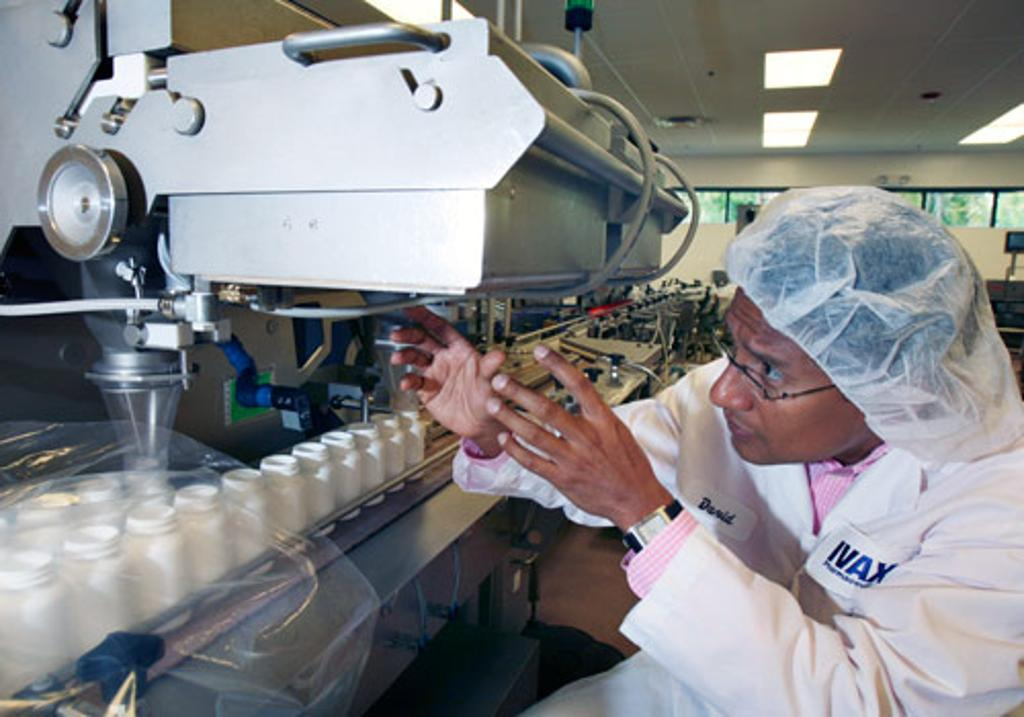face: (714, 268, 852, 464)
